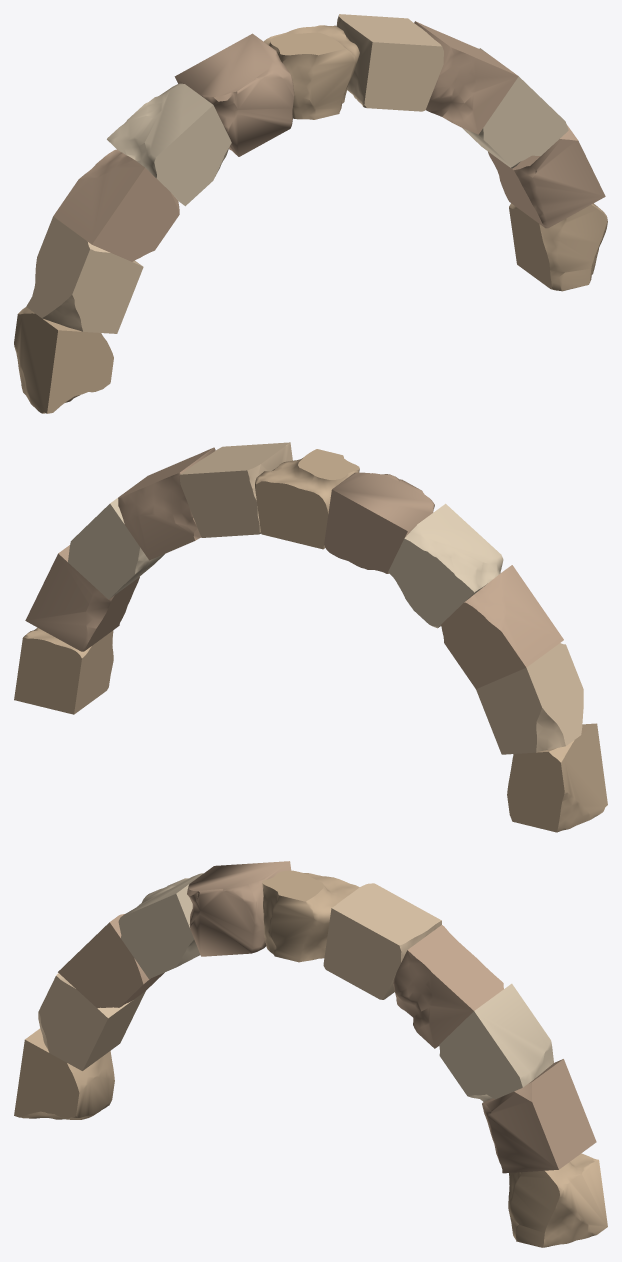
The model's file is frahan-rubble-voussoir-arch.glb.
The picture shows the model from 3 angles, top to bottom: view 1: azimuth 30°, elevation 25°; view 2: azimuth 150°, elevation 25°; view 3: azimuth 330°, elevation 25°; orthographic projection. The views are drawn at different scales.
Parts seen in each view (by area): view 1: rubble_V02, rubble_V03, rubble_V01, rubble_V04, rubble_V06, rubble_V00, rubble_V09, rubble_V10, rubble_V05, rubble_V07, rubble_V08; view 2: rubble_V02, rubble_V03, rubble_V01, rubble_V00, rubble_V04, rubble_V06, rubble_V05, rubble_V10, rubble_V09, rubble_V07, rubble_V08; view 3: rubble_V08, rubble_V09, rubble_V06, rubble_V07, rubble_V10, rubble_V04, rubble_V05, rubble_V00, rubble_V01, rubble_V03, rubble_V02.
Boxes of the visible parts, <box> form: rubble_V02: <box>53,149,179,261</box>; rubble_V03: <box>107,83,231,206</box>; rubble_V01: <box>26,216,143,333</box>; rubble_V04: <box>174,33,294,156</box>; rubble_V06: <box>336,14,443,111</box>; rubble_V00: <box>14,307,113,413</box>; rubble_V09: <box>488,124,605,228</box>; rubble_V10: <box>509,203,607,291</box>; rubble_V05: <box>264,25,359,119</box>; rubble_V07: <box>414,21,518,134</box>; rubble_V08: <box>462,48,568,168</box>; rubble_V02: <box>440,565,563,688</box>; rubble_V03: <box>388,503,503,628</box>; rubble_V01: <box>476,643,583,754</box>; rubble_V00: <box>507,723,607,832</box>; rubble_V04: <box>324,472,434,573</box>; rubble_V06: <box>180,442,292,537</box>; rubble_V05: <box>255,449,359,549</box>; rubble_V10: <box>14,627,113,714</box>; rubble_V09: <box>25,545,139,651</box>; rubble_V07: <box>118,447,215,560</box>; rubble_V08: <box>68,498,164,599</box>; rubble_V08: <box>439,983,553,1101</box>; rubble_V09: <box>482,1059,596,1173</box>; rubble_V06: <box>323,883,441,999</box>; rubble_V07: <box>393,925,503,1048</box>; rubble_V10: <box>508,1153,607,1247</box>; rubble_V04: <box>187,861,291,956</box>; rubble_V05: <box>262,870,359,962</box>; rubble_V00: <box>14,1028,114,1119</box>; rubble_V01: <box>38,973,145,1070</box>; rubble_V03: <box>118,873,203,978</box>; rubble_V02: <box>58,913,164,1008</box>.
Size of the model in its own units: 5.1 by 2.52 by 0.6.
